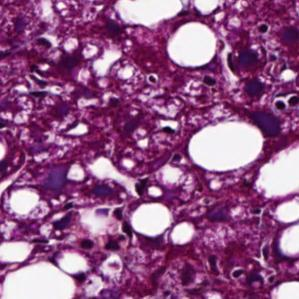inflammation: (99, 203, 138, 256), (18, 61, 60, 101), (268, 90, 299, 114)
